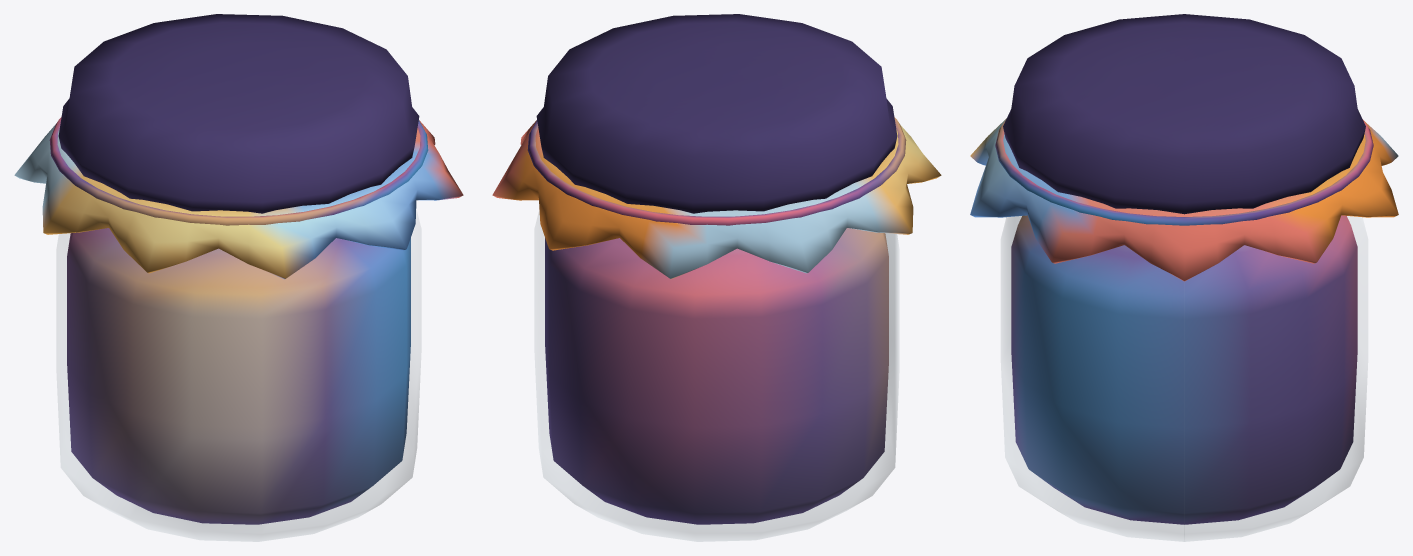
The model's file is Jelly_Jar_Fusion.glb.
The picture shows the model from 3 angles, left to right: view 1: azimuth 30°, elevation 25°; view 2: azimuth 150°, elevation 25°; view 3: azimuth 270°, elevation 25°; orthographic projection.
Visible parts, largest first — view 1: JAR_Jelly, JAR_Glass, JAR_Lid, JAR_Paper, JAR_Twine; view 2: JAR_Jelly, JAR_Lid, JAR_Glass, JAR_Paper, JAR_Twine; view 3: JAR_Jelly, JAR_Lid, JAR_Glass, JAR_Paper, JAR_Twine.
Part boxes in pixels (x1,y1,x2,y2): JAR_Jelly: [67, 228, 410, 524]; JAR_Glass: [57, 210, 420, 541]; JAR_Lid: [58, 14, 419, 213]; JAR_Paper: [14, 120, 463, 279]; JAR_Twine: [49, 117, 428, 225]; JAR_Jelly: [545, 228, 888, 524]; JAR_Lid: [536, 14, 897, 213]; JAR_Glass: [535, 214, 898, 541]; JAR_Paper: [492, 120, 941, 279]; JAR_Twine: [527, 117, 906, 225]; JAR_Jelly: [1011, 215, 1357, 524]; JAR_Lid: [1003, 14, 1365, 214]; JAR_Glass: [1001, 216, 1367, 541]; JAR_Paper: [970, 118, 1398, 281]; JAR_Twine: [995, 120, 1373, 225].
Bounding box in the file's own units: 1.06 × 1.05 × 1.
